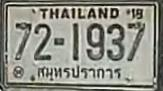1: (72, 22, 78, 60)
2: (34, 22, 50, 60)
3: (106, 22, 124, 60)
7: (126, 21, 145, 61), (14, 21, 31, 60)
9: (86, 22, 104, 60)
SPK: (35, 63, 123, 83)
